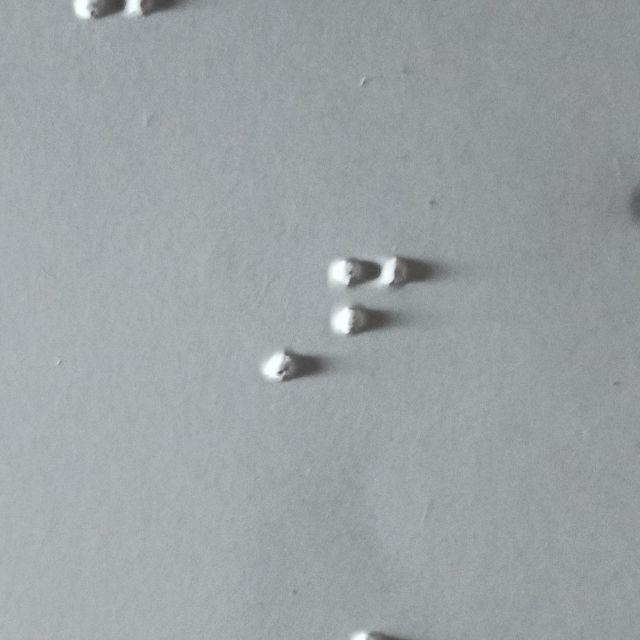F: (330, 256, 421, 376)
capital: (210, 262, 301, 381)
